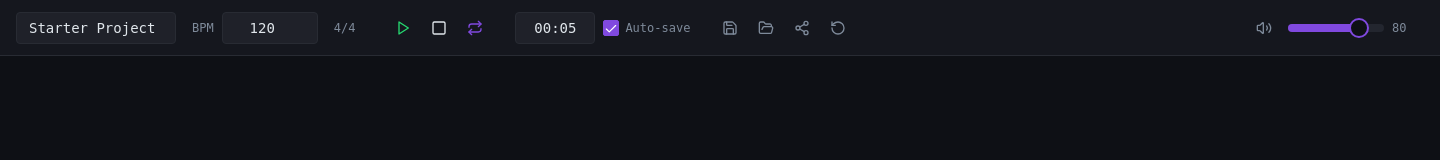
Test: TopBar › toggles master mute via the volume button
The image size is (1440, 160).
Later steps or results of the test are not shown.
Click to mute
Click the button named "Mute master".
click(1264, 28)  # box [1248,12,1280,44]
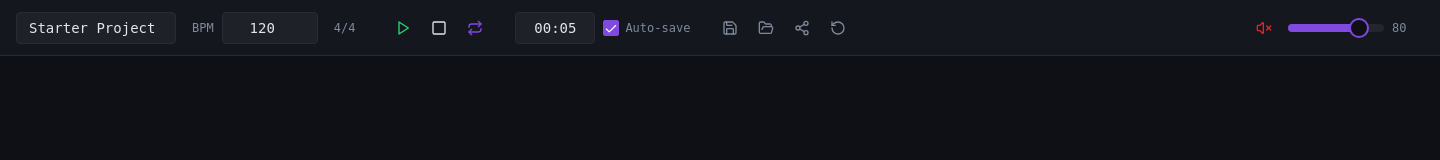
Expected: the button named "Unmute master" is shown, [1248,12,1280,44]
